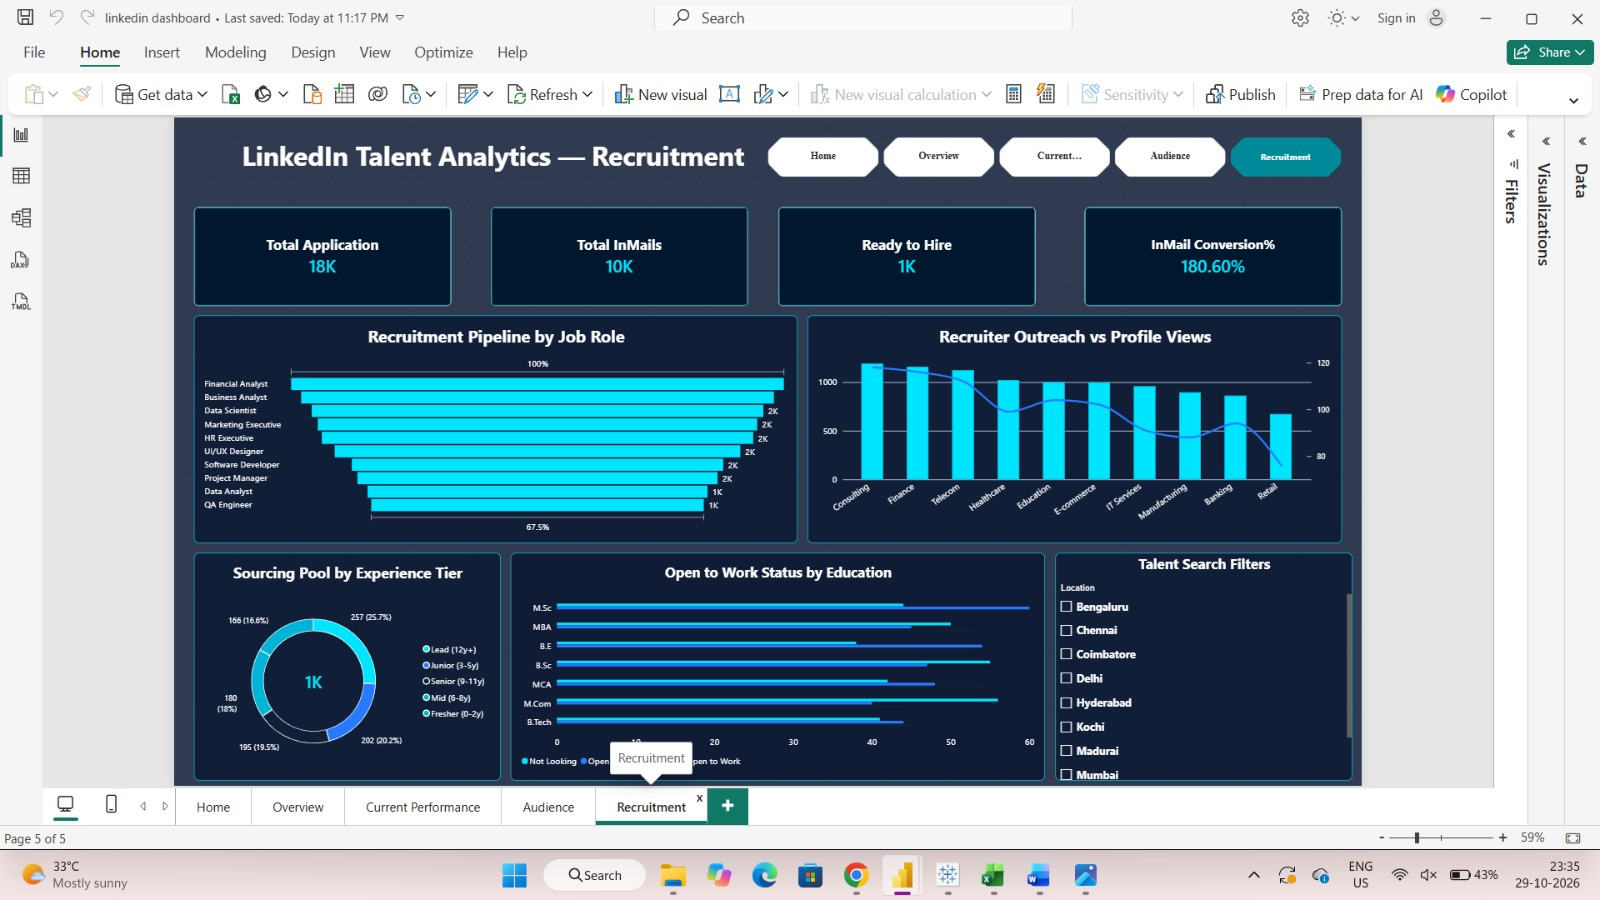

Layout of this report page (visuals, bound fields, positions):
{"tool":"powerbi","page":{"name":"Recruitment","canvas":[1920,1080],"ordinal":4},"visuals":[{"type":"pageNavigator","box":[960,32,928,64],"z":0},{"type":"cardVisual","title":"Total Applications","fields":{"Data":["Sum(Linkedin_dataset_csv.Job_Applications_Last_90_Days)"]},"box":[32,144,416,160],"z":1000},{"type":"cardVisual","title":"Total InMails","fields":{"Data":["Sum(Linkedin_dataset_csv.Recruiter_InMails_Last_90_Days)"]},"box":[512,144,416,160],"z":2000},{"type":"cardVisual","title":"Ready to Hire","fields":{"Data":["CountNonNull(Linkedin_dataset_csv.Profile_ID)"]},"box":[976,144,416,160],"z":3000},{"type":"cardVisual","title":"InMail Conversion %","fields":{"Data":["Linkedin_dataset_csv.Avg InMail Response Rate"]},"box":[1472,144,416,160],"z":4000},{"type":"funnel","title":"Recruitment Pipeline by Job Role","fields":{"Category":["Linkedin_dataset_csv.Job_Title"],"Y":["Sum(Linkedin_dataset_csv.Job_Applications_Last_90_Days)"]},"box":[32,320,976,368],"z":5000},{"type":"lineClusteredColumnComboChart","title":"Recruiter Outreach vs Profile Views","fields":{"Category":["Linkedin_dataset_csv.Industry"],"Y":["Sum(Linkedin_dataset_csv.Recruiter_InMails_Last_90_Days)"],"Y2":["CountNonNull(Linkedin_dataset_csv.Profile_ID)"]},"box":[1024,320,864,368],"z":6000},{"type":"donutChart","title":"Sourcing Pool by Experience Tier","fields":{"Category":["Linkedin_dataset_csv.Seniority_Band"],"Y":["CountNonNull(Linkedin_dataset_csv.Profile_ID)"]},"box":[32,704,496,368],"z":7000},{"type":"clusteredBarChart","title":"Open to Work Status by Education","fields":{"Category":["Linkedin_dataset_csv.Education"],"Series":["Linkedin_dataset_csv.Job_Search_Status"],"Y":["CountNonNull(Linkedin_dataset_csv.Profile_ID)"]},"box":[544,704,864,368],"z":7001},{"type":"slicer","title":"Talent Search Filters","fields":{"Values":["Linkedin_dataset_csv.Location"]},"box":[1424,704,480,368],"z":7002},{"type":"textbox","box":[32,32,944,64],"z":7003}]}

Visuals, with their boxes on the page's 1920x1080 design canvas (x1, y1, x2, y2). These are canvas units, not pixel positions in the 1600x900 screenshot, which may show the page scaled, cropped or inside an application window:
pageNavigator: 960 32 1888 96
"Total Applications" cardVisual: 32 144 448 304
"Total InMails" cardVisual: 512 144 928 304
"Ready to Hire" cardVisual: 976 144 1392 304
"InMail Conversion %" cardVisual: 1472 144 1888 304
"Recruitment Pipeline by Job Role" funnel: 32 320 1008 688
"Recruiter Outreach vs Profile Views" lineClusteredColumnComboChart: 1024 320 1888 688
"Sourcing Pool by Experience Tier" donutChart: 32 704 528 1072
"Open to Work Status by Education" clusteredBarChart: 544 704 1408 1072
"Talent Search Filters" slicer: 1424 704 1904 1072
textbox: 32 32 976 96
